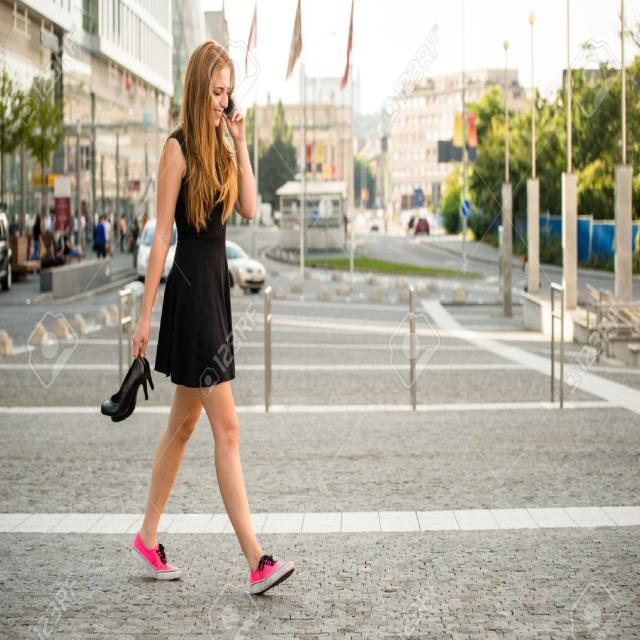Person: (132, 41, 296, 598)
